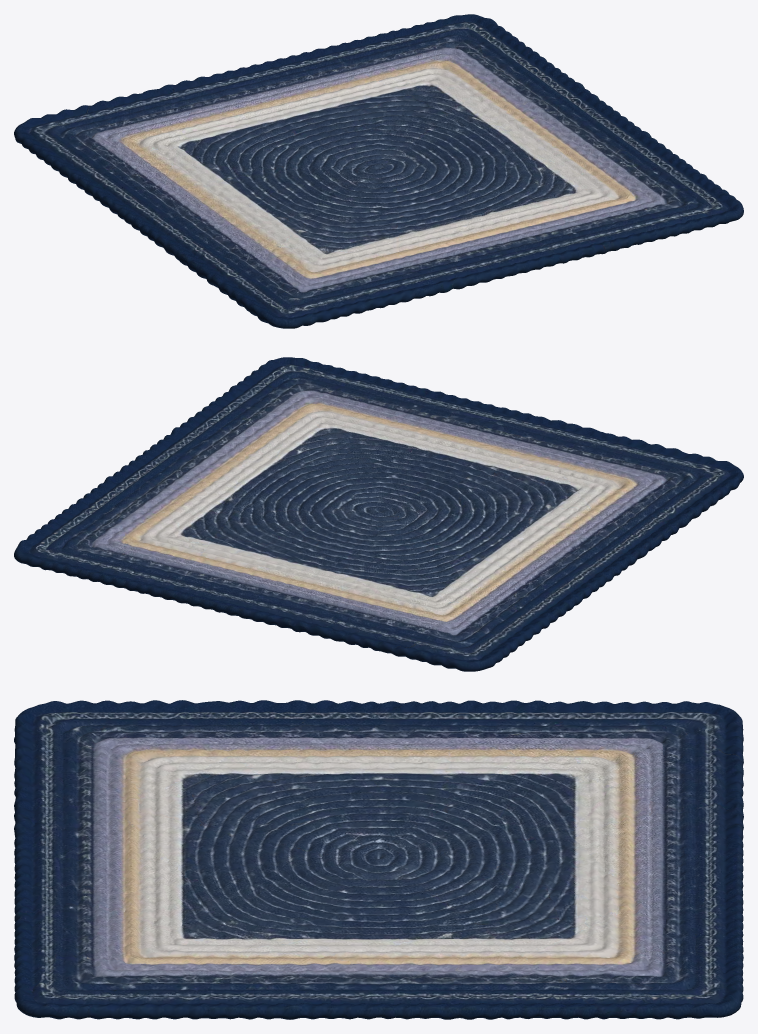
The model's file is blue-rug.glb.
3 views of the same model, one above another, from view 1: azimuth 30°, elevation 25°; view 2: azimuth 150°, elevation 25°; view 3: azimuth 270°, elevation 25° (orthographic). The views are drawn at different scales.
Parts seen in each view (by area): view 1: mesh_node; view 2: mesh_node; view 3: mesh_node.
Boxes of the visible parts, x1,y1,x2,y2 form: mesh_node: (14, 14, 743, 328); mesh_node: (14, 357, 743, 671); mesh_node: (14, 700, 743, 1019).
Bounding box in the file's own units: 1.9 × 0.0435 × 1.89.
Materials: 1 (1 with a texture image).
